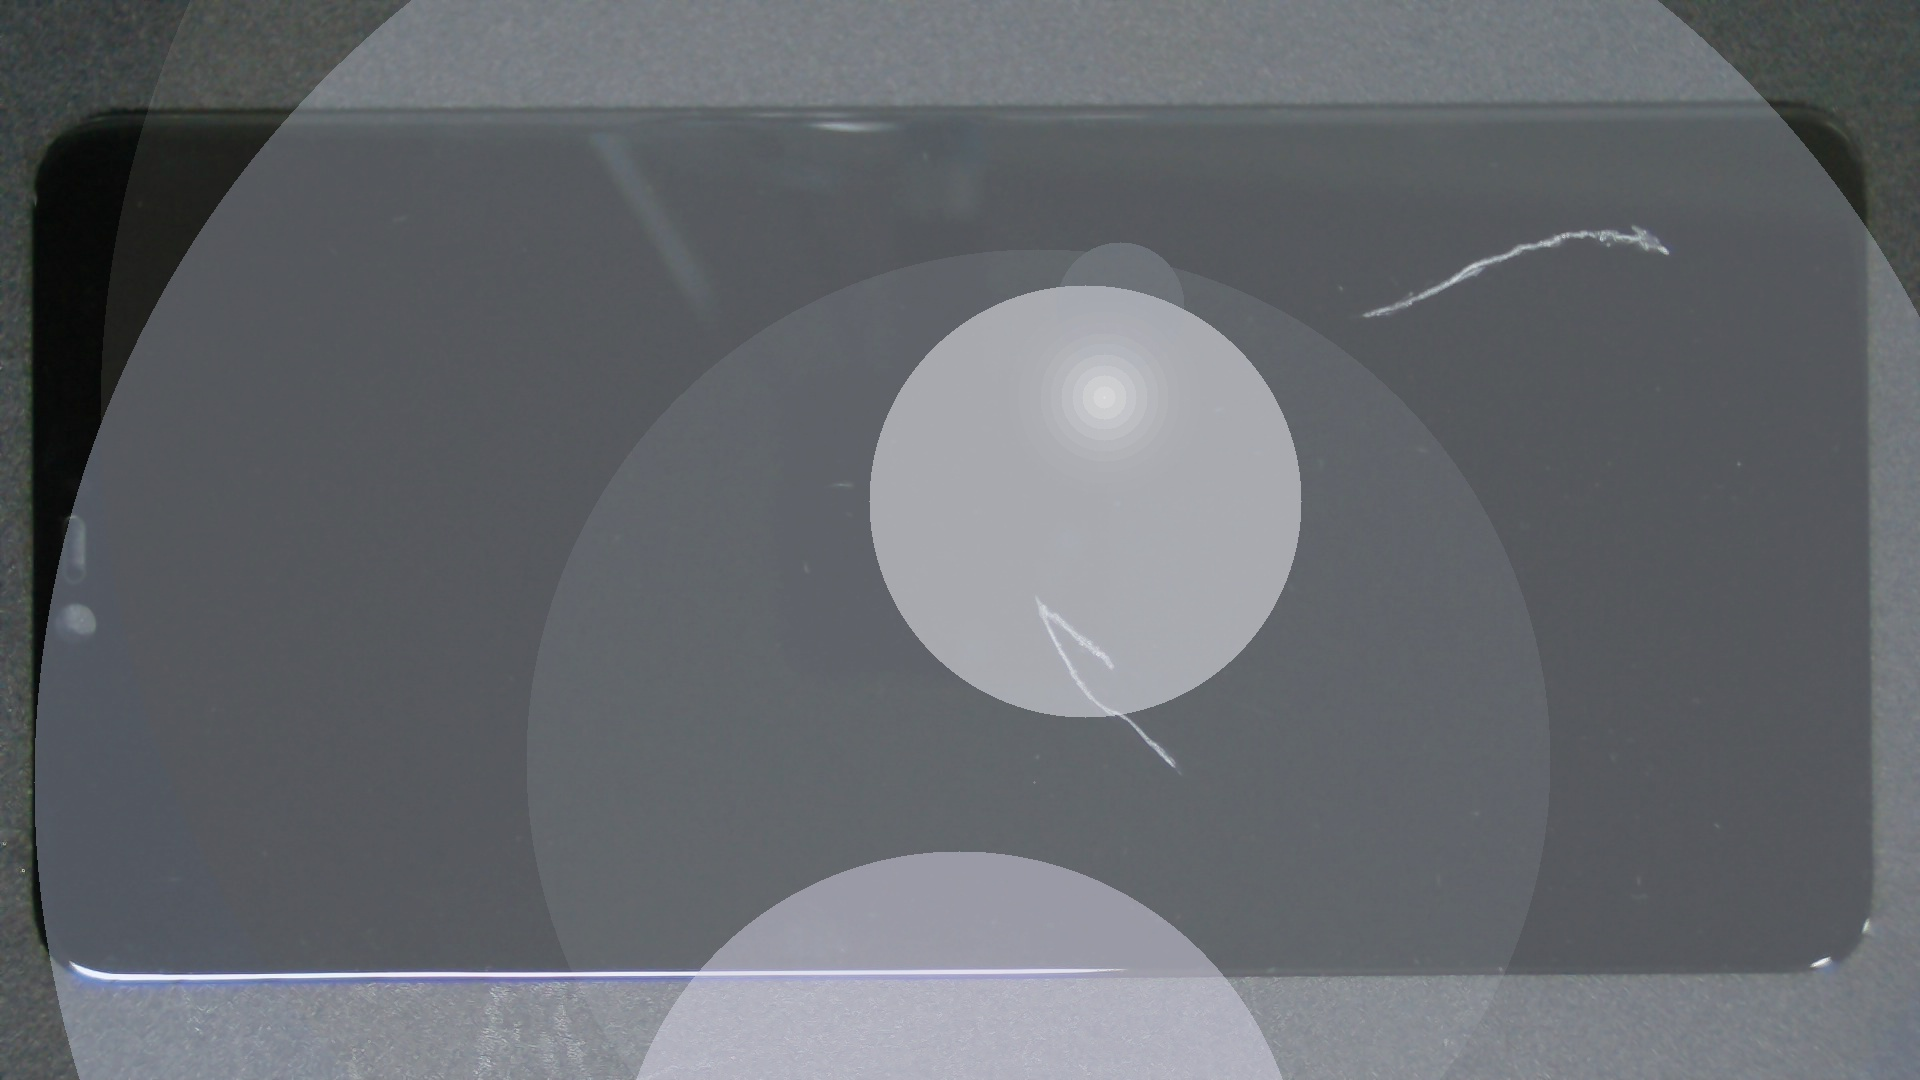oil: (520, 297, 1555, 893), (816, 112, 1920, 339)
